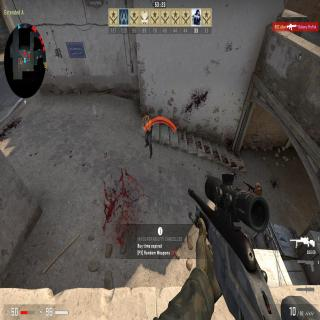T-Body: (141, 112, 155, 157)
T-Head: (145, 112, 148, 119)
